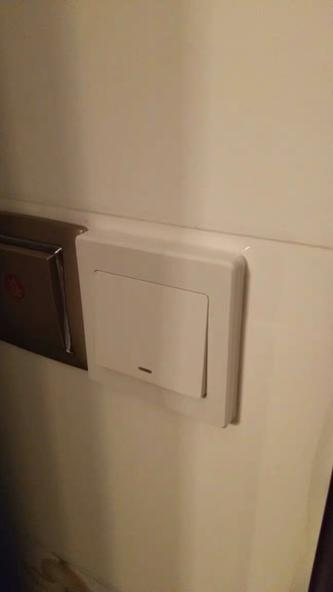switch: (86, 263, 217, 402)
